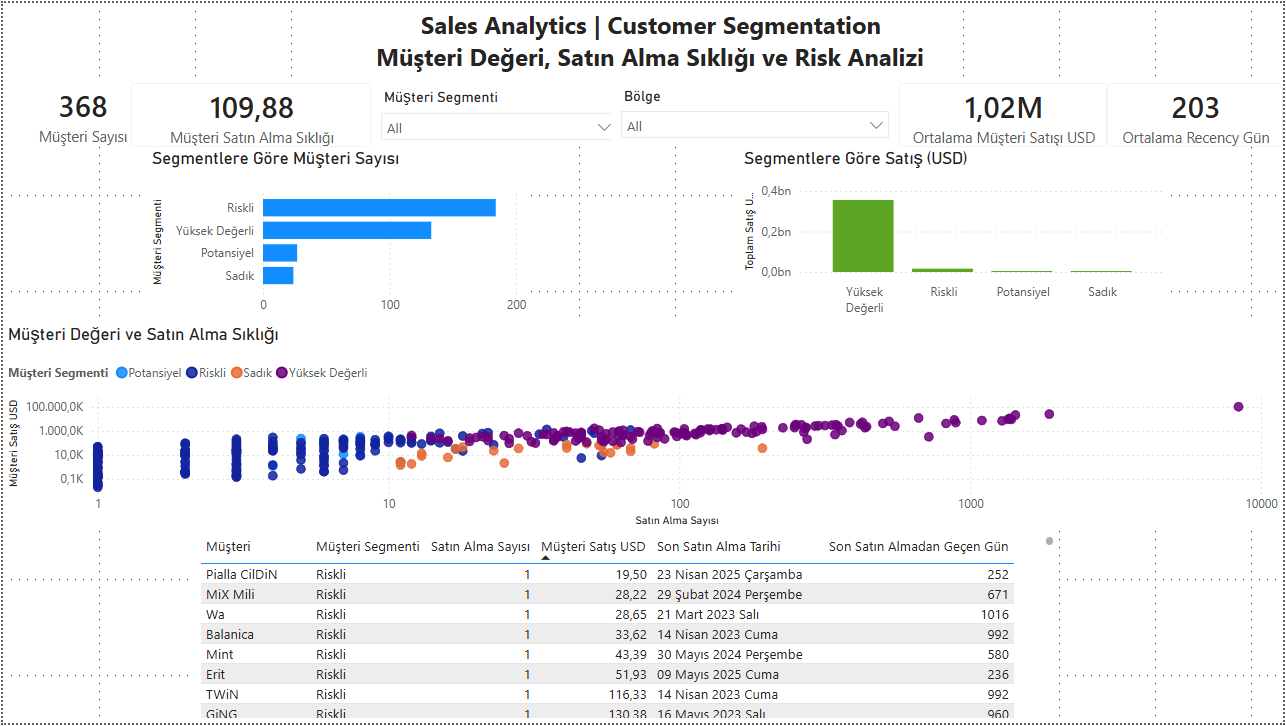

The dashboard page shown, as its layout file describes it:
{"tool":"powerbi","page":{"name":"02 - Customer Segmentation","canvas":[1280,720],"ordinal":1},"visuals":[{"type":"cardVisual","fields":{"Data":["FactSales.Müşteri Sayısı"]},"box":[0,80,160,64],"z":0},{"type":"cardVisual","fields":{"Data":["FactSales.Müşteri Satın Alma Sıklığı"]},"box":[128,80,240,64],"z":1000},{"type":"cardVisual","fields":{"Data":["FactSales.Ortalama Müşteri Satışı USD"]},"box":[896,80,208,64],"z":2000},{"type":"cardVisual","fields":{"Data":["FactSales.Ortalama Recency Gün"]},"box":[1104,80,176,64],"z":3000},{"type":"slicer","fields":{"Values":["DimCustomer.Müşteri Segmenti"]},"box":[368,80,256,64],"z":4000},{"type":"slicer","fields":{"Values":["FactSales.Bölge"]},"box":[608,80,288,64],"z":5000},{"type":"clusteredColumnChart","title":"Segmentlere Göre Satış (USD)","fields":{"Category":["DimCustomer.Müşteri Segmenti"],"Y":["FactSales.Toplam Satış USD"]},"box":[736,144,432,176],"z":6000},{"type":"scatterChart","title":"Müşteri Değeri ve Satın Alma Sıklığı","fields":{"Category":["DimCustomer.Müşteri"],"Series":["DimCustomer.Müşteri Segmenti"],"X":["DimCustomer.Satın Alma Sayısı"],"Y":["DimCustomer.Müşteri Satış USD"]},"box":[0,320,1280,208],"z":7000},{"type":"tableEx","fields":{"Values":["DimCustomer.Müşteri","DimCustomer.Müşteri Segmenti","DimCustomer.Satın Alma Sayısı","DimCustomer.Müşteri Satış USD","DimCustomer.Son Satın Alma Tarihi","DimCustomer.Son Satın Almadan Geçen Gün"]},"box":[192,528,864,192],"z":8000},{"type":"clusteredBarChart","title":"Segmentlere Göre Müşteri Sayısı","fields":{"Category":["DimCustomer.Müşteri Segmenti"],"Y":["FactSales.Müşteri Sayısı"]},"box":[144,144,384,176],"z":9000},{"type":"textbox","box":[368,0,560,80],"z":10000}]}

Visuals, with their boxes in screenshot pixels (x1, y1, x2, y2), scaled from the page's 1280x720 canvas onto the 1286x726 screenshot:
cardVisual - FactSales.Müşteri Sayısı: x1=0 y1=81 x2=161 y2=145
cardVisual - FactSales.Müşteri Satın Alma Sıklığı: x1=129 y1=81 x2=370 y2=145
cardVisual - FactSales.Ortalama Müşteri Satışı USD: x1=900 y1=81 x2=1109 y2=145
cardVisual - FactSales.Ortalama Recency Gün: x1=1109 y1=81 x2=1285 y2=145
slicer - DimCustomer.Müşteri Segmenti: x1=370 y1=81 x2=627 y2=145
slicer - FactSales.Bölge: x1=611 y1=81 x2=900 y2=145
"Segmentlere Göre Satış (USD)" clusteredColumnChart: x1=739 y1=145 x2=1173 y2=323
"Müşteri Değeri ve Satın Alma Sıklığı" scatterChart: x1=0 y1=323 x2=1285 y2=532
tableEx - DimCustomer.Müşteri x DimCustomer.Müşteri Segmenti: x1=193 y1=532 x2=1061 y2=725
"Segmentlere Göre Müşteri Sayısı" clusteredBarChart: x1=145 y1=145 x2=530 y2=323
textbox: x1=370 y1=0 x2=932 y2=81
